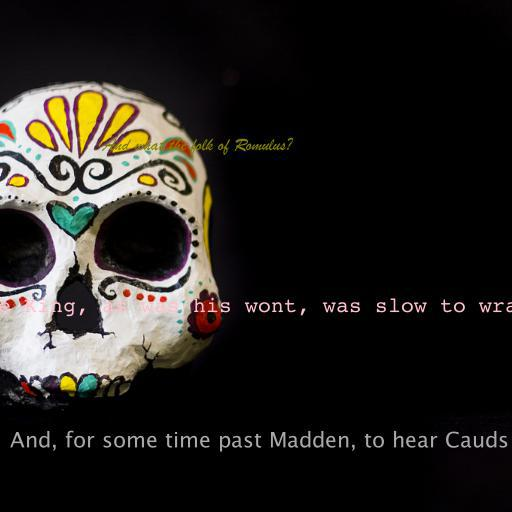Brush Script MT: (102, 137, 292, 155)
Courier: (0, 297, 512, 317)
Lucida Grande: (9, 430, 509, 452)
